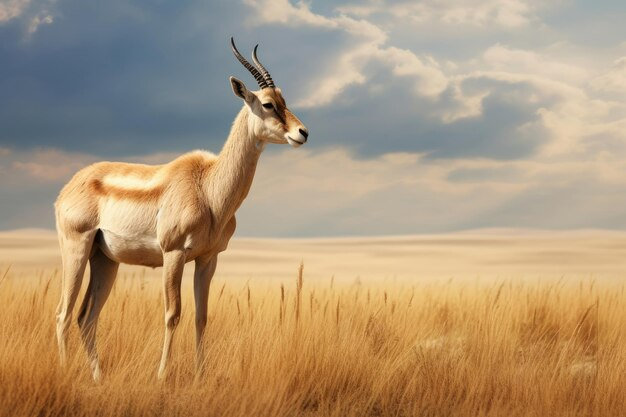saiga: (46, 37, 301, 393)
